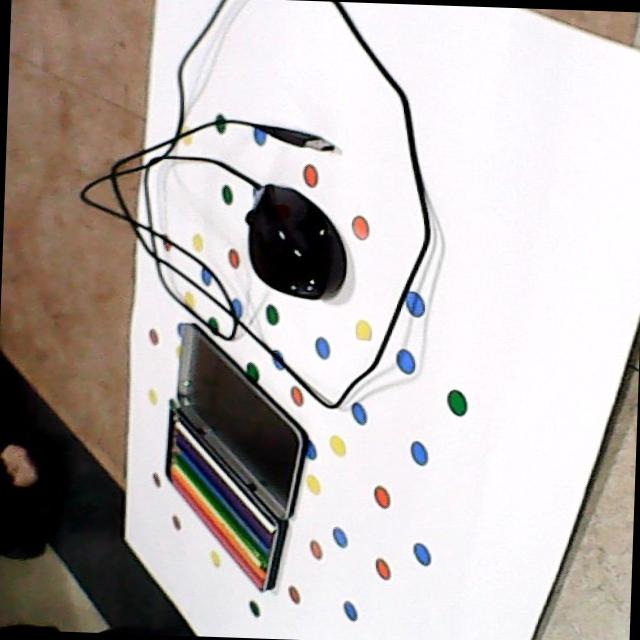color: (159, 396, 297, 597)
mouse: (236, 175, 360, 306)
